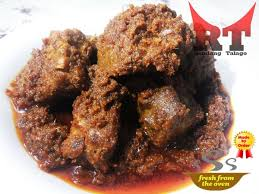rendang: (8, 6, 242, 185)
